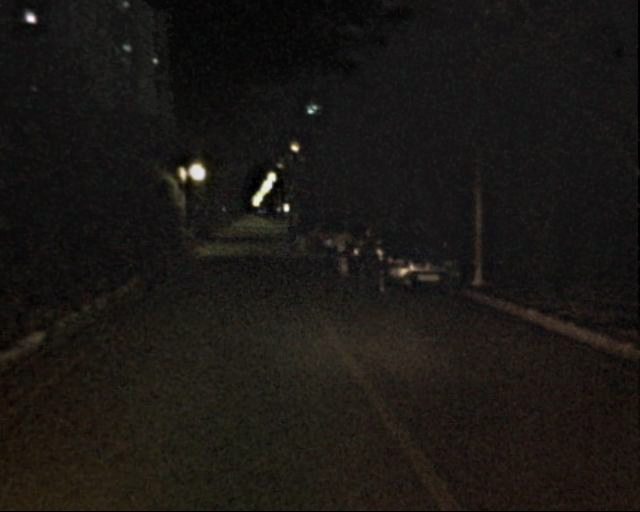person: (325, 222, 349, 281), (290, 216, 304, 251), (282, 221, 292, 245)
